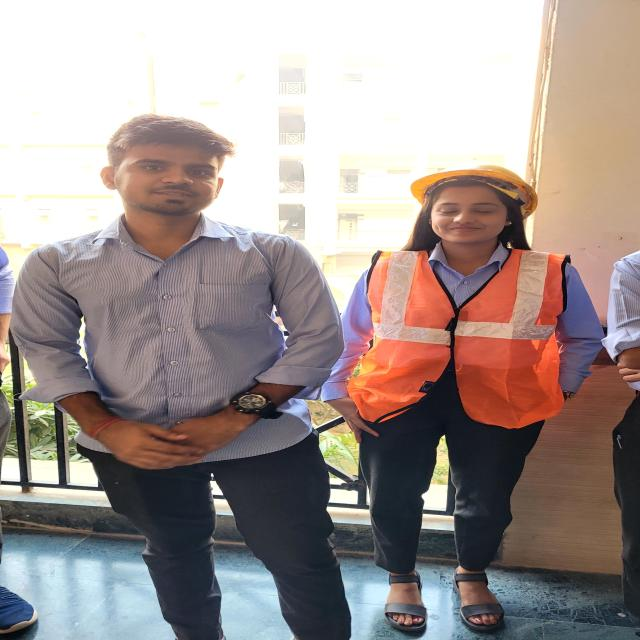safe: (337, 160, 604, 640)
unsafe: (15, 112, 344, 640)
